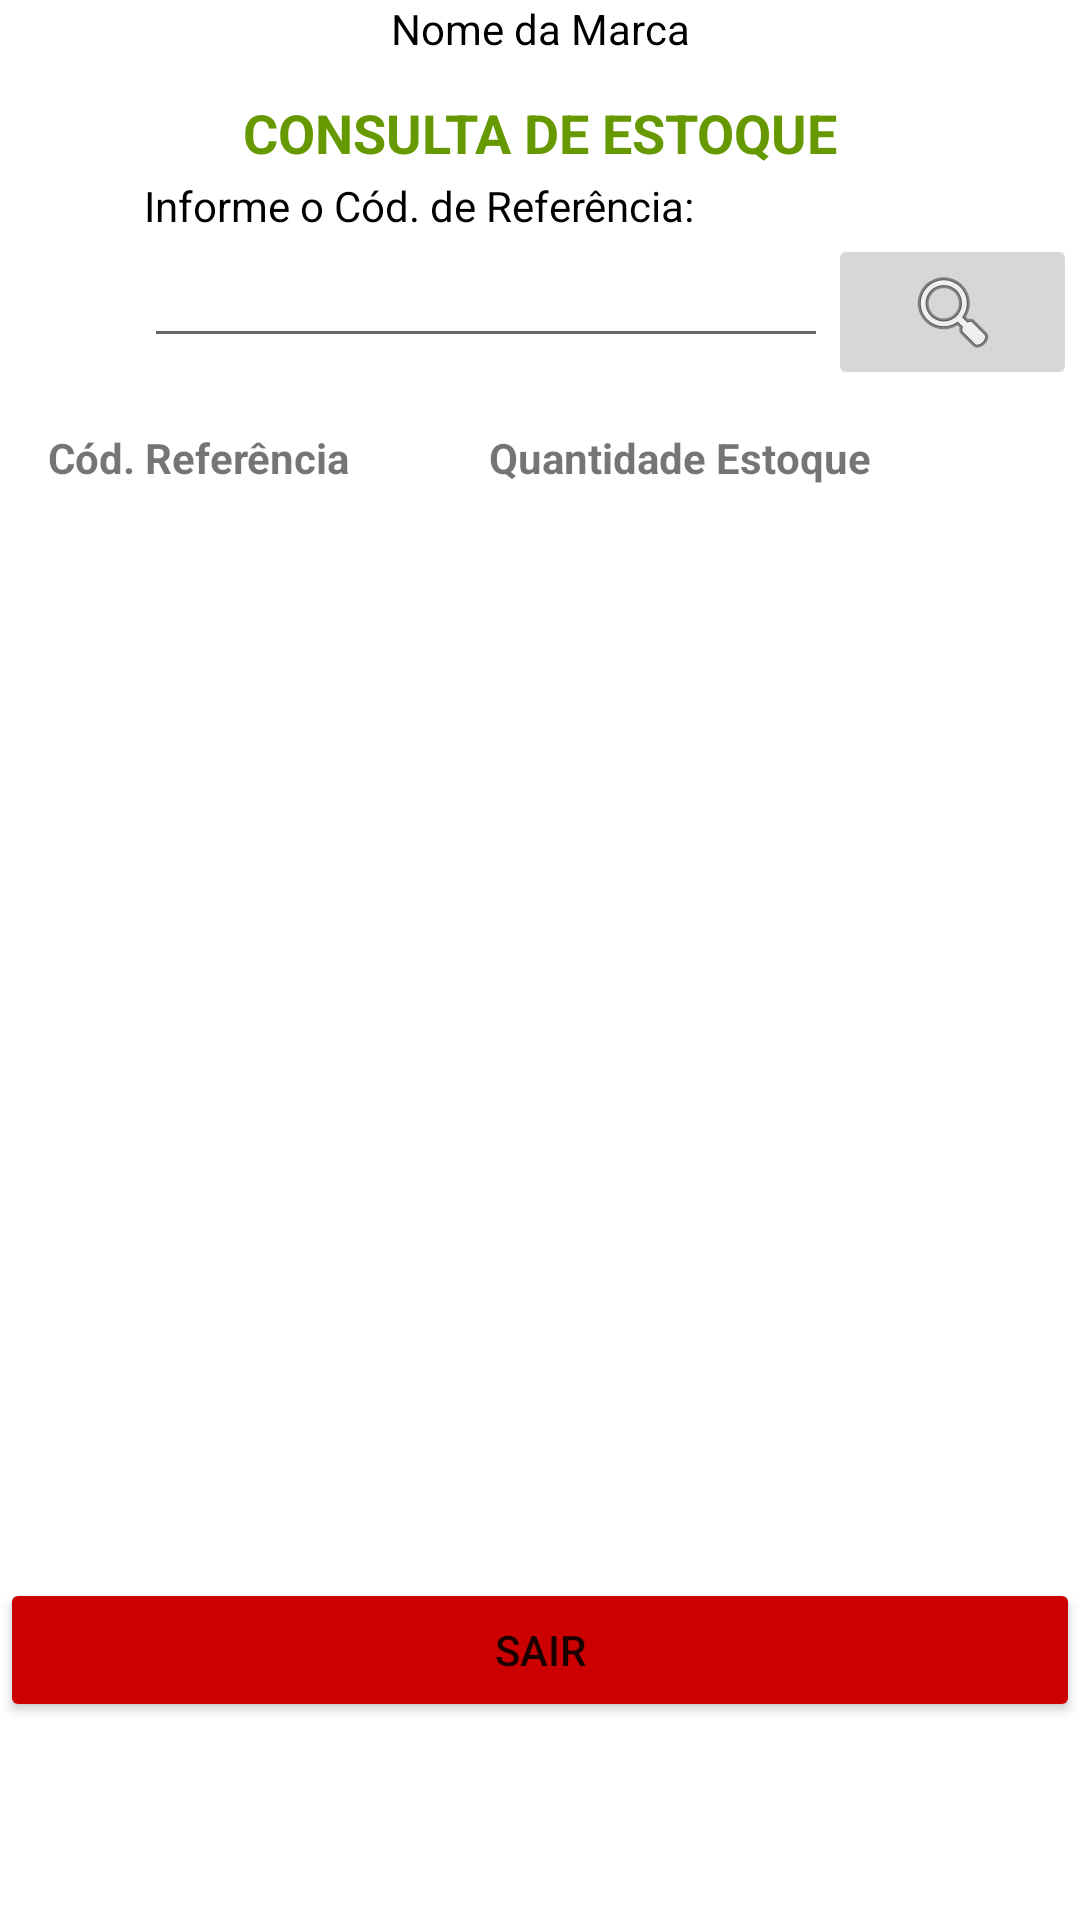

Icons on this 1080px x 1920px Android screen, each with the point to tap as [x,y]:
search: [952,312]
